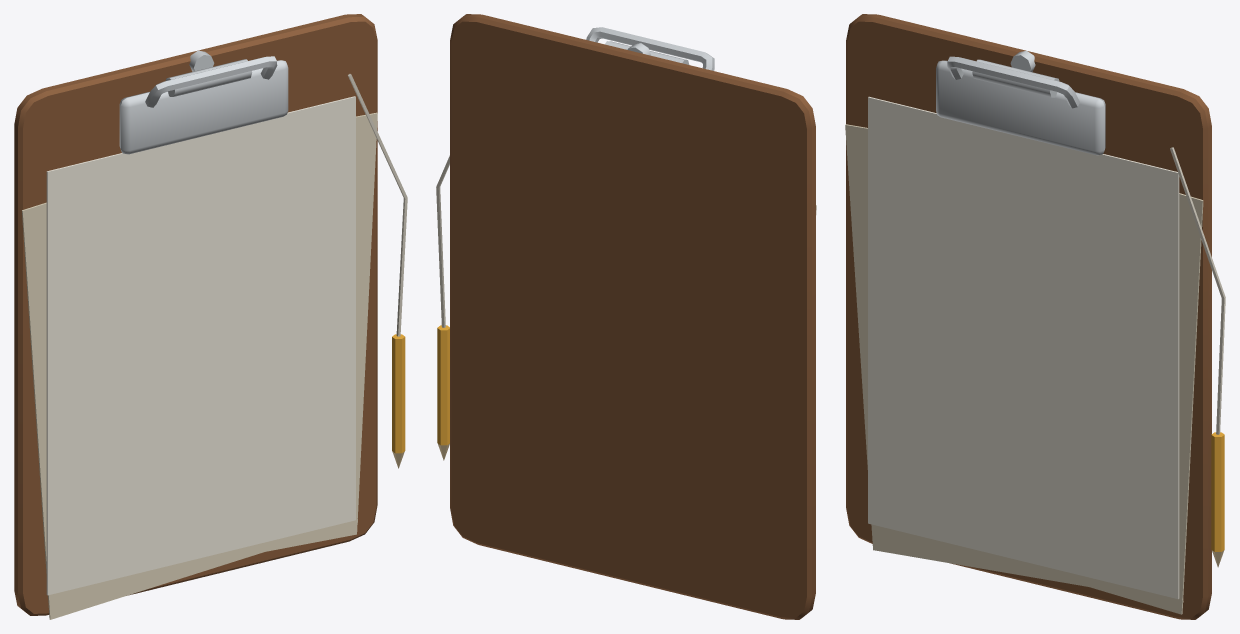
The model's file is Shop_RulesBoard.fbx.
The picture shows the model from 3 angles, left to right: view 1: azimuth 30°, elevation 25°; view 2: azimuth 150°, elevation 25°; view 3: azimuth 330°, elevation 25°; orthographic projection.
Parts seen in each view (by area): view 1: Sheet, Board, OldSheets, Clip, Pencil, String; view 2: Board, Clip, Pencil, String; view 3: Sheet, Board, OldSheets, Clip, Pencil, String.
Part boxes in pixels (x1=…): Sheet: x1=46, y1=96, x2=355, y2=595; Board: x1=14, y1=14, x2=377, y2=615; OldSheets: x1=22, y1=112, x2=377, y2=619; Clip: x1=119, y1=50, x2=288, y2=154; Pencil: x1=392, y1=334, x2=405, y2=453; String: x1=348, y1=74, x2=407, y2=336; Board: x1=450, y1=14, x2=815, y2=619; Clip: x1=586, y1=27, x2=714, y2=70; Pencil: x1=437, y1=325, x2=449, y2=445; String: x1=436, y1=155, x2=449, y2=327; Sheet: x1=868, y1=96, x2=1179, y2=599; Board: x1=846, y1=14, x2=1211, y2=619; OldSheets: x1=845, y1=124, x2=1203, y2=614; Clip: x1=936, y1=50, x2=1105, y2=155; Pencil: x1=1211, y1=432, x2=1224, y2=551; String: x1=1170, y1=147, x2=1225, y2=434.
Size of the model in its own units: 298 by 395 by 35.59.
